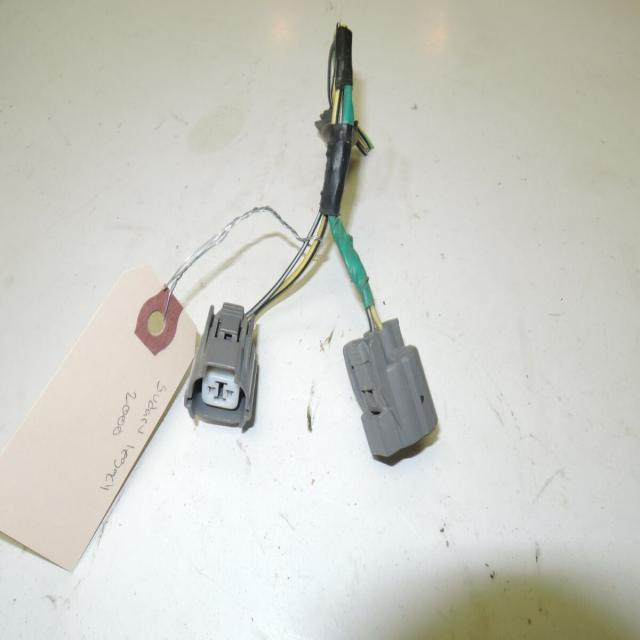cable: (249, 22, 456, 348)
connector: (336, 315, 444, 466), (181, 300, 266, 431)
